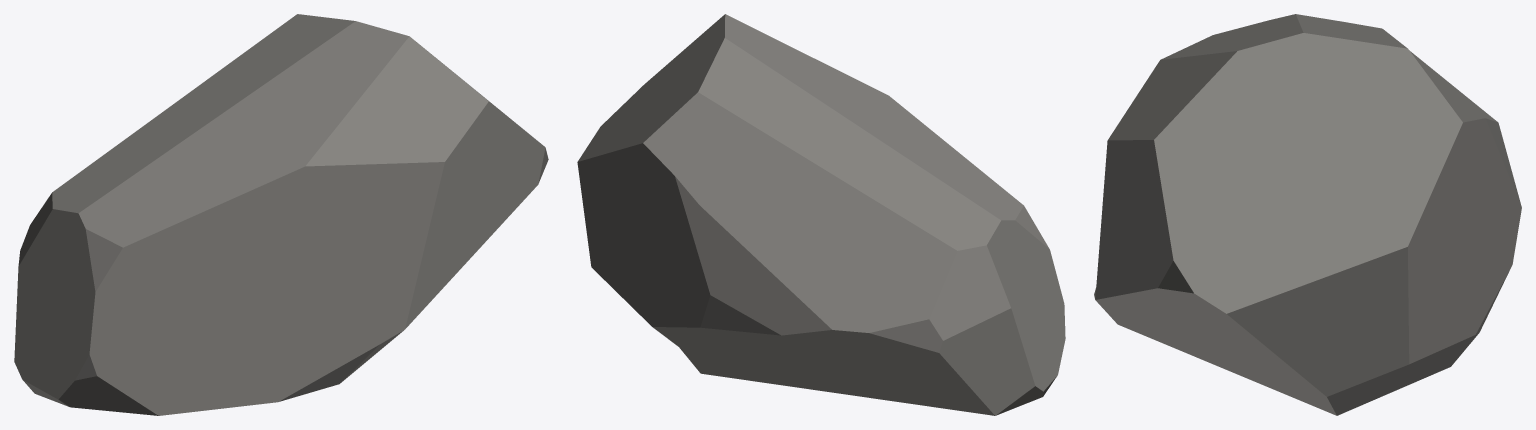
File: Stone3.fbx
3 renders of one model, left to right at view 1: azimuth 30°, elevation 25°; view 2: azimuth 150°, elevation 25°; view 3: azimuth 270°, elevation 25°, orthographic. The views are drawn at different scales.
Parts seen in each view (by area): view 1: Stone_03; view 2: Stone_03; view 3: Stone_03.
Part boxes in pixels (bbox=[...]): Stone_03: bbox=[14, 14, 548, 415]; Stone_03: bbox=[577, 14, 1065, 415]; Stone_03: bbox=[1094, 14, 1521, 415].
Size of the model in its own units: 97 by 55.24 by 60.3.
